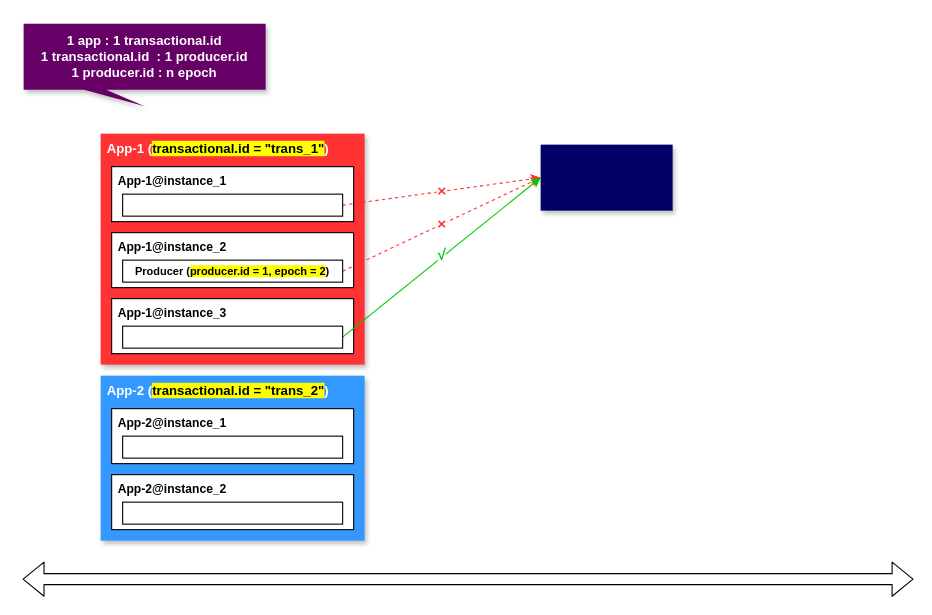
The diagram is 932 pixels wide and 615 high, and some of its shapes have lost their labels. The centre of each missing label's shape, as x and y in pixels:
"Broker" belongs at [607,179].
"Producer ( producer.id = 1, epoch = 1 )" belongs at [232,204].
"Producer ( producer.id = 1, epoch = 3 )" belongs at [232,336].
"Producer ( producer.id = 2, epoch = 1 )" belongs at [232,446].
"Producer ( producer.id = 2, epoch = 2 )" belongs at [232,512].
